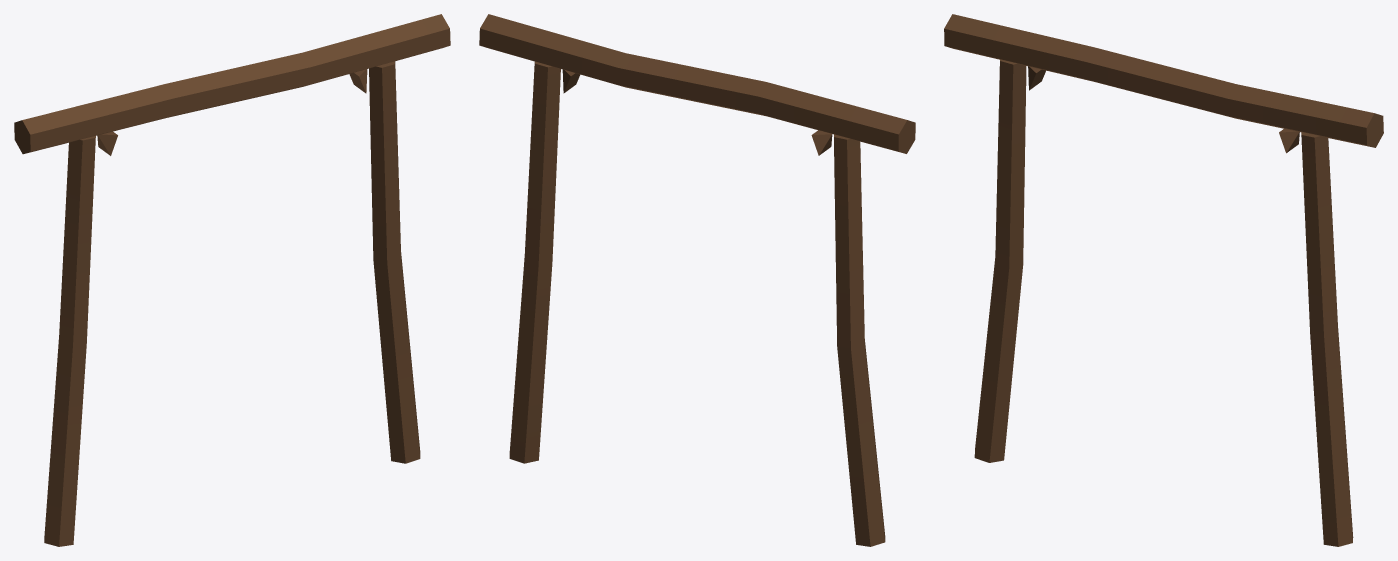
File: TimberFrame.fbx
3 renders of one model, left to right at view 1: azimuth 30°, elevation 25°; view 2: azimuth 150°, elevation 25°; view 3: azimuth 330°, elevation 25°, orthographic.
Visible parts, largest first — view 1: TimberFrame; view 2: TimberFrame; view 3: TimberFrame.
Boxes of the visible parts, bbox=[...] form: TimberFrame: bbox=[14, 14, 450, 546]; TimberFrame: bbox=[479, 14, 915, 546]; TimberFrame: bbox=[944, 14, 1383, 546].
Bounding box in the file's own units: 2.31 × 2.28 × 0.1821.
